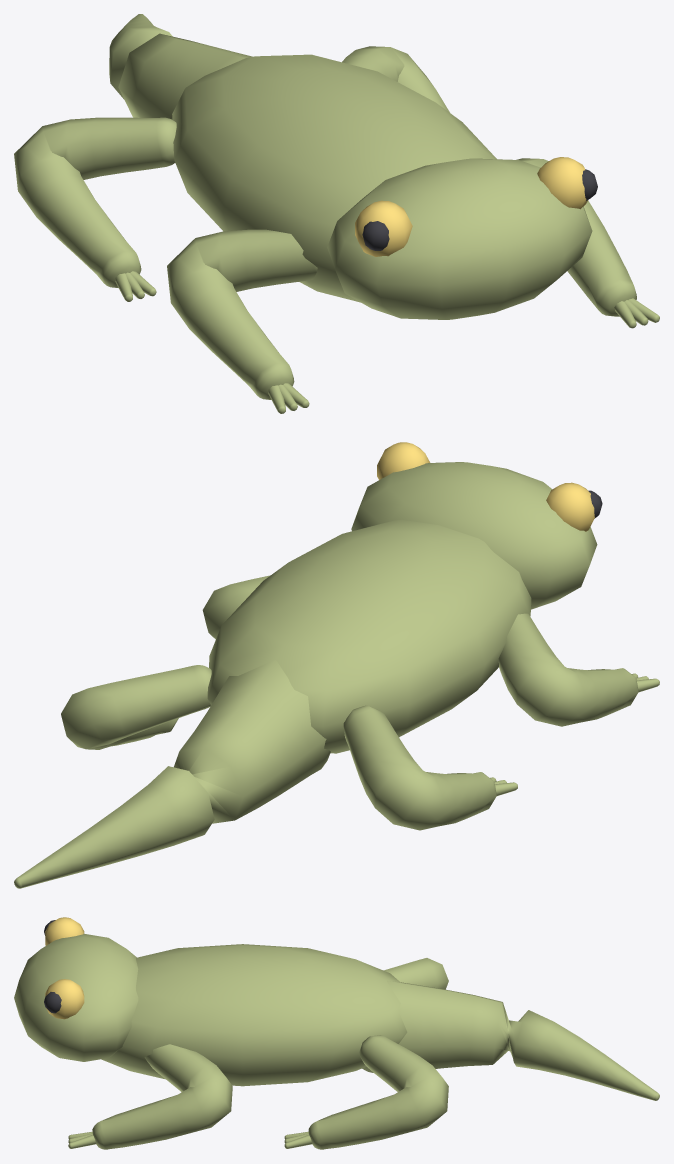
The model's file is reptiles-amphibians-and-minibeasts-common-newt-a8eab2ed__22451.glb.
3 views of the same model, one above another, from view 1: azimuth 30°, elevation 25°; view 2: azimuth 150°, elevation 25°; view 3: azimuth 270°, elevation 25° (orthographic). The views are drawn at different scales.
Visible parts, largest first — view 1: common-newt; view 2: common-newt; view 3: common-newt.
Boxes of the visible parts, x1,y1,x2,y2 form: common-newt: (14, 14, 659, 413); common-newt: (14, 442, 659, 888); common-newt: (14, 917, 659, 1149).
Bounding box in the file's own units: 0.0515 × 0.0239 × 0.1.
